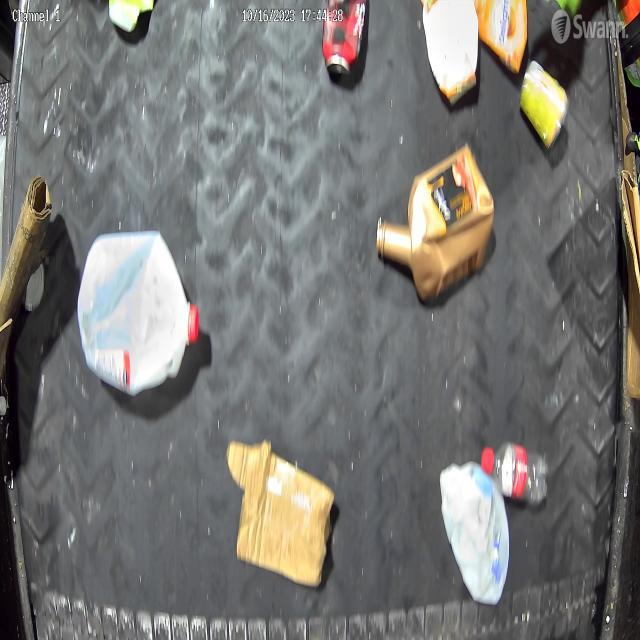can: (520, 53, 572, 152), (322, 0, 370, 80)
milk_jug: (75, 224, 201, 402), (436, 457, 508, 610)
non_white_jug: (377, 144, 493, 298)
plastic_bottle: (482, 439, 550, 512)
